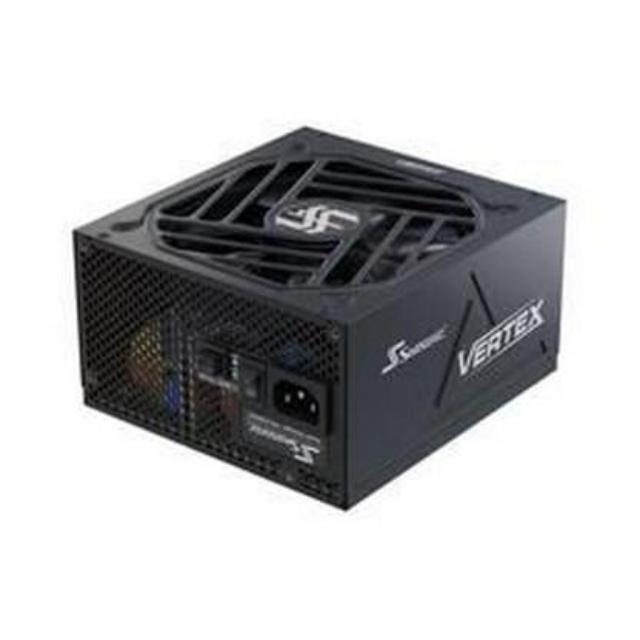PSU: (62, 123, 564, 514)
